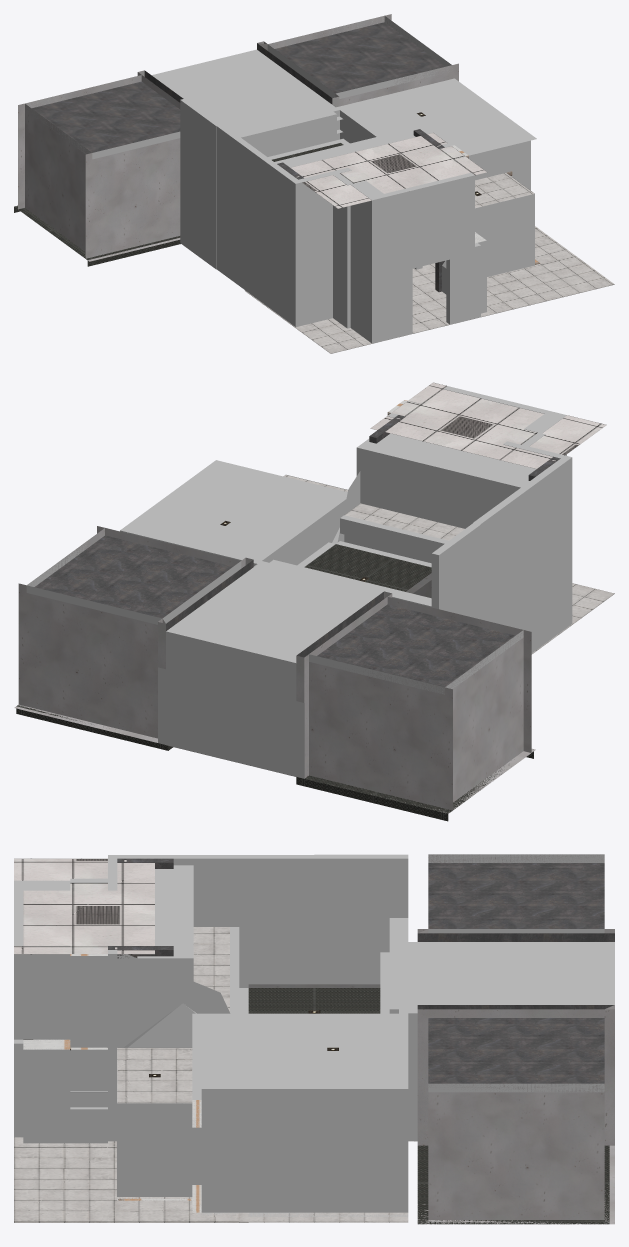
File: LC_ckpt1.gltf
The picture shows the model from 3 angles, top to bottom: view 1: azimuth 30°, elevation 25°; view 2: azimuth 150°, elevation 25°; view 3: azimuth 270°, elevation 25°; orthographic projection. The views are drawn at different scales.
Visible parts, largest first — view 1: LC_ckpt1; view 2: LC_ckpt1; view 3: LC_ckpt1.
Part boxes in pixels (box(x1,y1,x2,y2)): LC_ckpt1: box(14, 14, 614, 353); LC_ckpt1: box(14, 382, 614, 821); LC_ckpt1: box(14, 854, 614, 1224).
Size of the model in its own units: 19.2 by 7.36 by 20.48.
